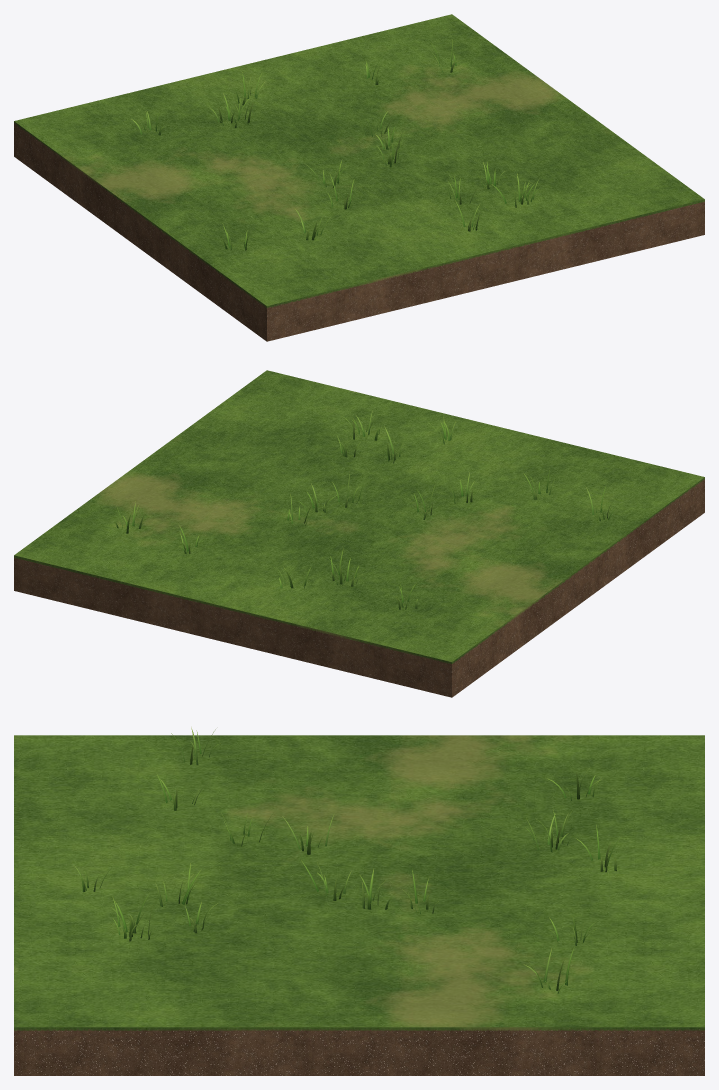
Rendered from suelo_cesped.gltf.
The picture shows the model from 3 angles, top to bottom: view 1: azimuth 30°, elevation 25°; view 2: azimuth 150°, elevation 25°; view 3: azimuth 270°, elevation 25°; orthographic projection. The views are drawn at different scales.
Visible parts, largest first — view 1: suelo_cesped; view 2: suelo_cesped; view 3: suelo_cesped.
Part boxes in pixels (x1=…): suelo_cesped: x1=14, y1=14, x2=704, y2=341; suelo_cesped: x1=14, y1=370, x2=704, y2=697; suelo_cesped: x1=14, y1=727, x2=704, y2=1075.
Size of the model in its own units: 4 by 0.5508 by 4.
Materials: 5 (5 with a texture image).
